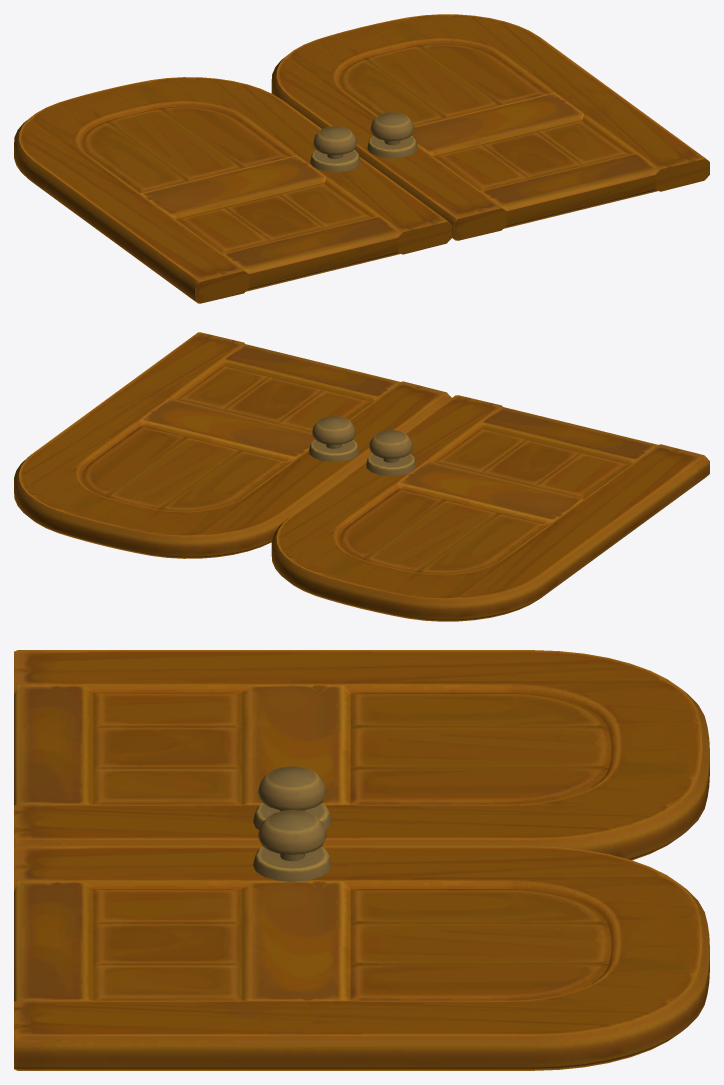
Rendered from door.fbx.
The picture shows the model from 3 angles, top to bottom: view 1: azimuth 30°, elevation 25°; view 2: azimuth 150°, elevation 25°; view 3: azimuth 270°, elevation 25°; orthographic projection. The views are drawn at different scales.
Parts seen in each view (by area): view 1: pCube48__mDoorR.001, pCube48__mDoorR.002; view 2: pCube48__mDoorR.001, pCube48__mDoorR.002; view 3: pCube48__mDoorR.002, pCube48__mDoorR.001.
Part boxes in pixels (x1,y1,x2,y2): pCube48__mDoorR.001: [14, 77, 452, 303]; pCube48__mDoorR.002: [271, 14, 709, 240]; pCube48__mDoorR.001: [271, 395, 709, 621]; pCube48__mDoorR.002: [14, 332, 451, 558]; pCube48__mDoorR.002: [14, 810, 709, 1070]; pCube48__mDoorR.001: [14, 650, 709, 860].
Size of the model in its own units: 401 by 39.51 by 300.
